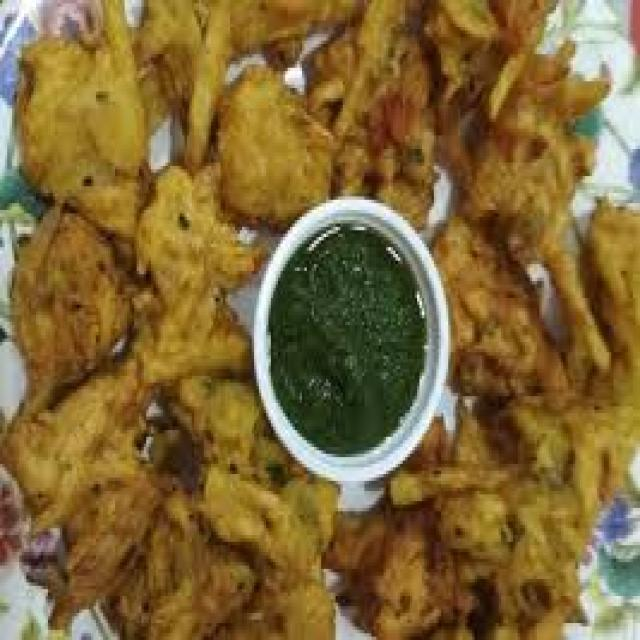BAJI: (128, 0, 638, 637), (0, 7, 343, 637)
